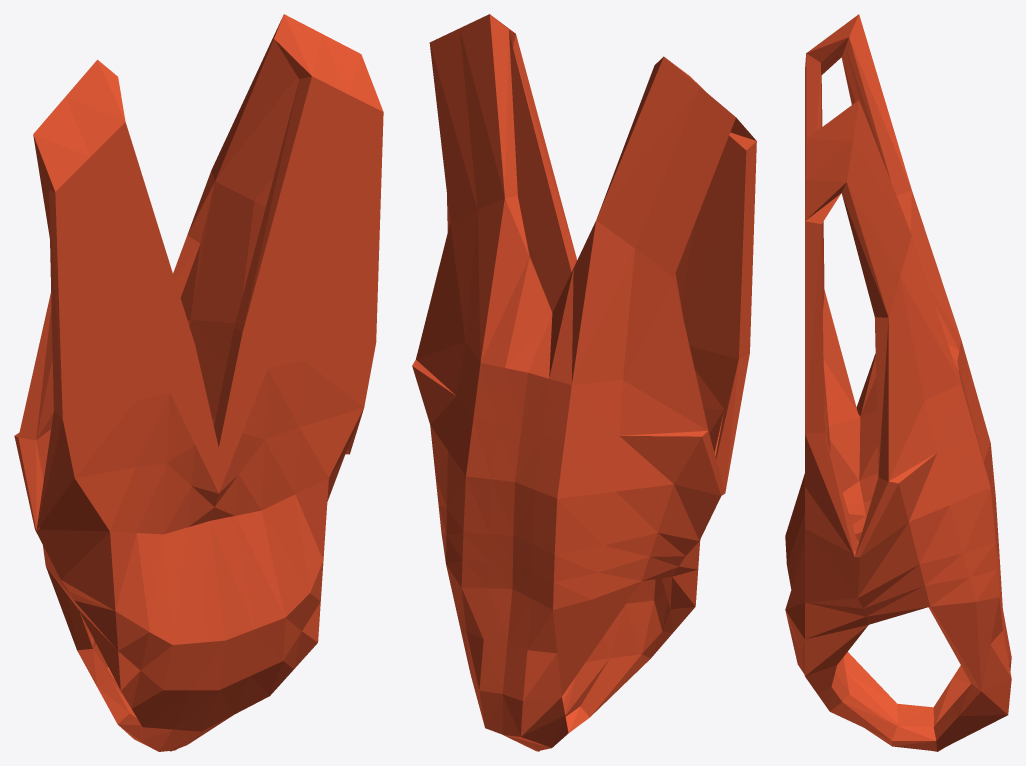
File: Flysuit.dae
The picture shows the model from 3 angles, left to right: view 1: azimuth 30°, elevation 25°; view 2: azimuth 150°, elevation 25°; view 3: azimuth 270°, elevation 25°; orthographic projection. The views are drawn at different scales.
Parts seen in each view (by area): view 1: FlySuit; view 2: FlySuit; view 3: FlySuit.
Part boxes in pixels (x1,y1,x2,y2): FlySuit: (14,14,383,751); FlySuit: (412,14,756,751); FlySuit: (785,14,1011,751).
Bounding box in the file's own units: 12.88 × 8.16 × 27.62.
